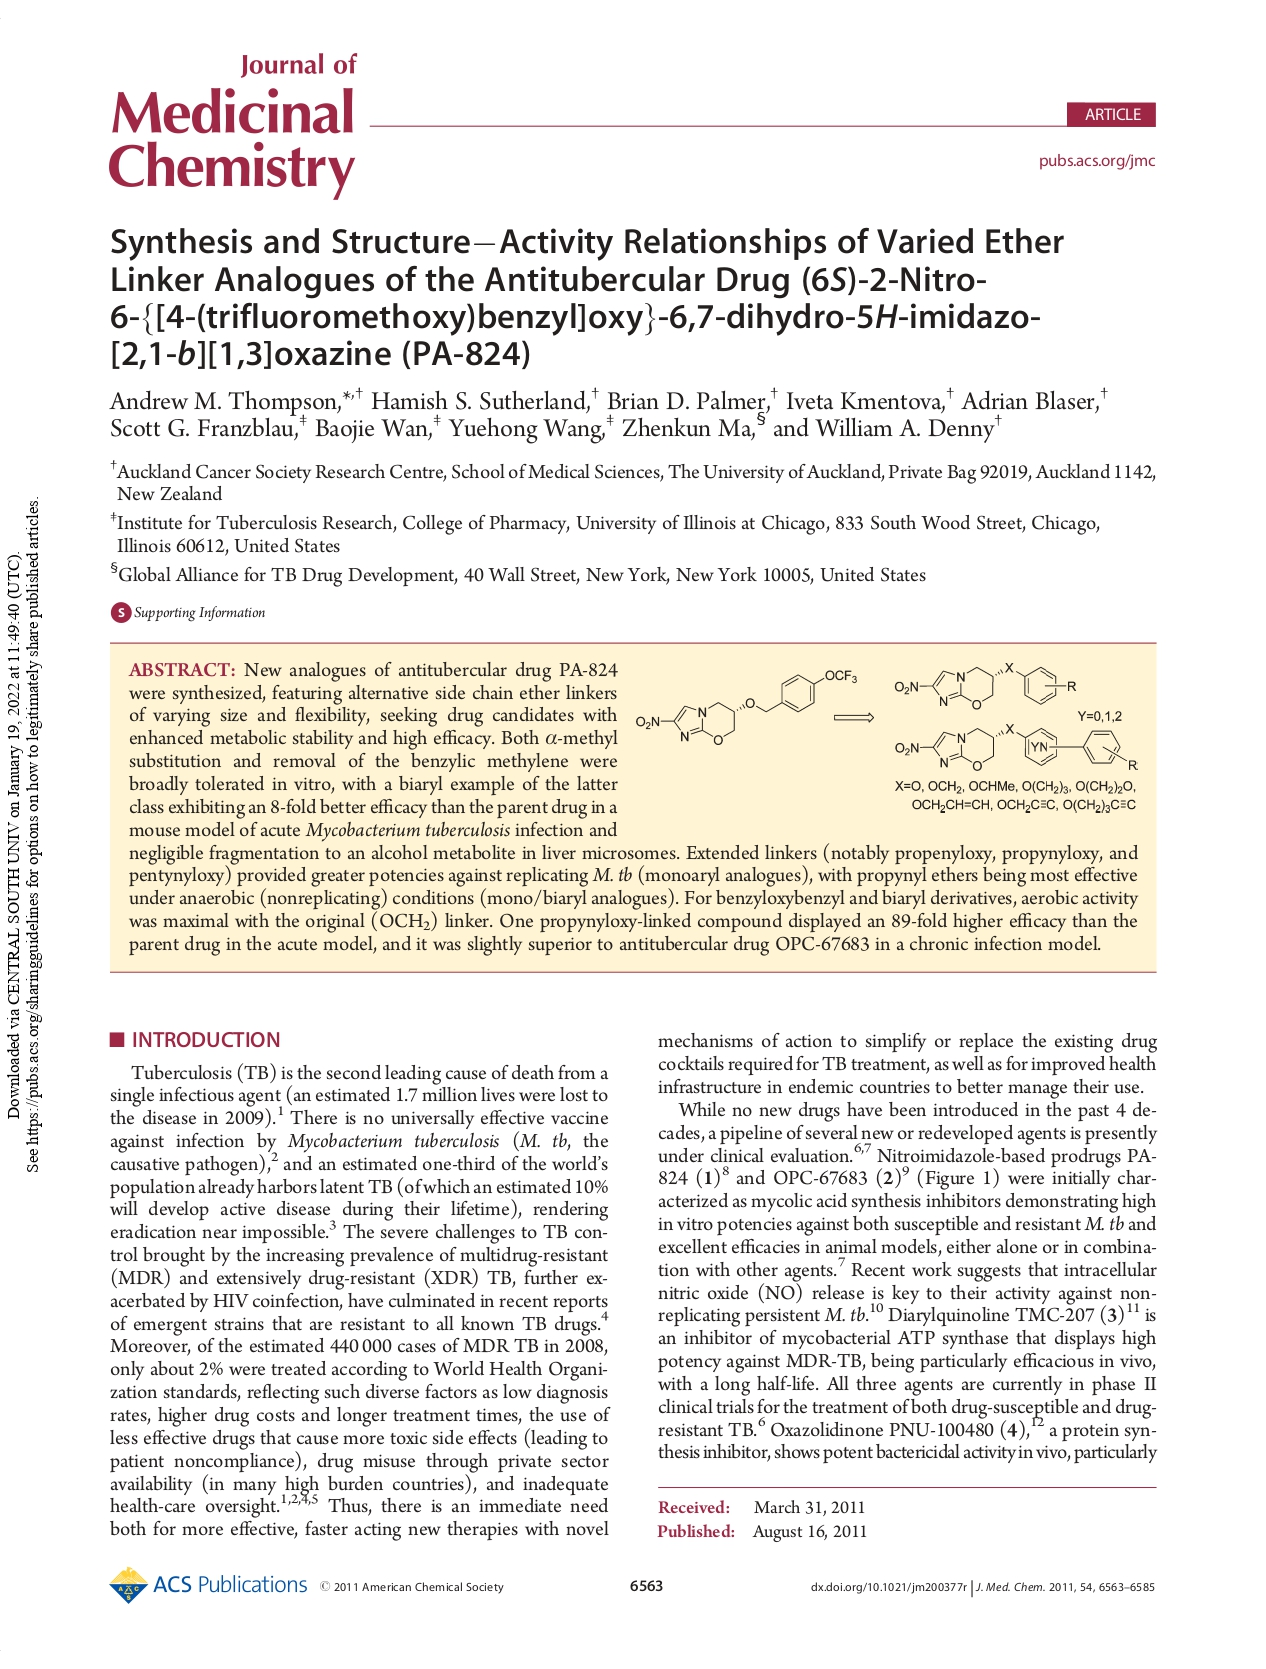exist_molecular: (633, 666, 859, 749), (892, 722, 1140, 777), (894, 658, 1078, 713)
